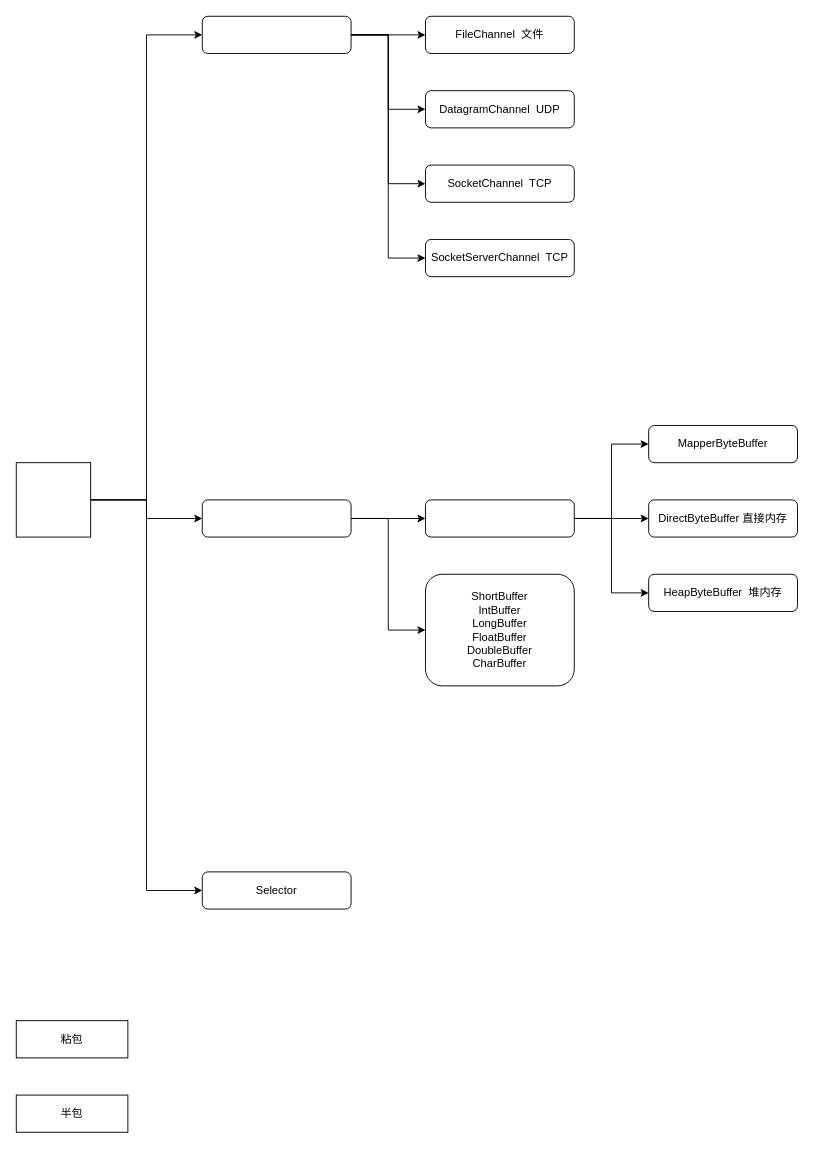
This 814x1149 diagram has some shape labels left out. The centre of each missing label's shape, as x and y in pixels:
Buffer: point 276,518
ByteBuffer: point 499,518
Channel: point 276,34
三大核心组件: point 53,499
